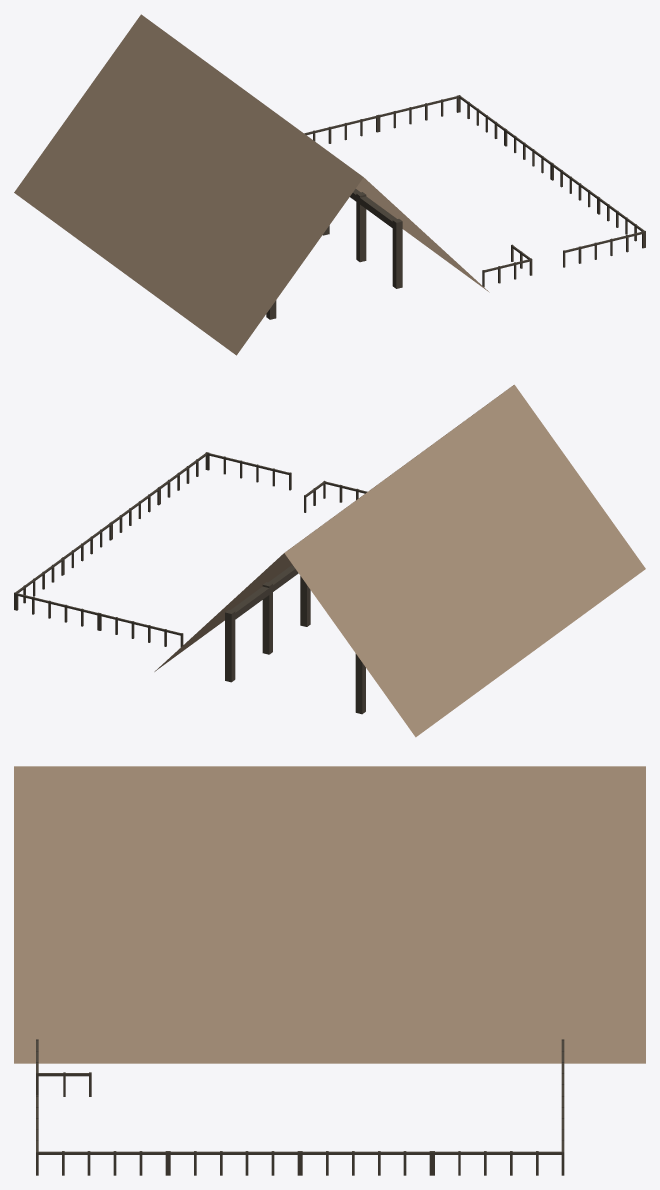
Rendered from CelticBarnModel.glb.
The picture shows the model from 3 angles, top to bottom: view 1: azimuth 30°, elevation 25°; view 2: azimuth 150°, elevation 25°; view 3: azimuth 270°, elevation 25°; orthographic projection. The views are drawn at different scales.
Parts seen in each view (by area): view 1: Barn; view 2: Barn; view 3: Barn.
Boxes of the visible parts, box(x1,y1,x2,y2) form: Barn: box(14, 14, 645, 355); Barn: box(14, 384, 645, 737); Barn: box(14, 766, 645, 1175).
Bounding box in the file's own units: 26.4 × 8.91 × 24.4.
